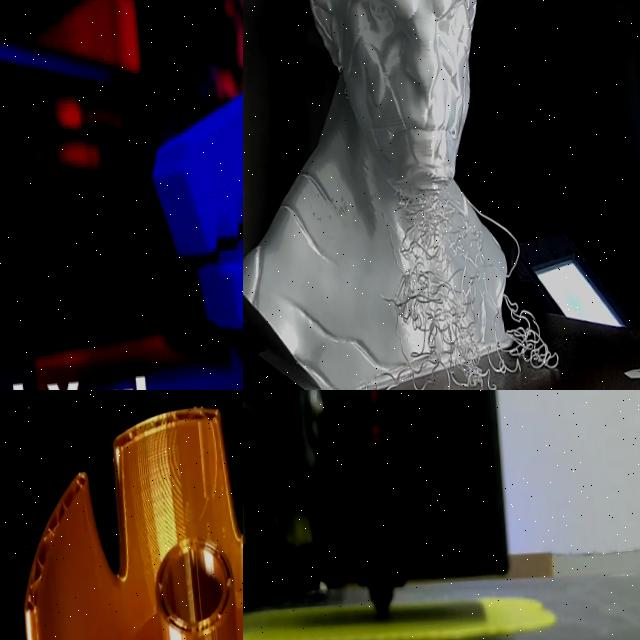spaghetti: (332, 160, 579, 390)
